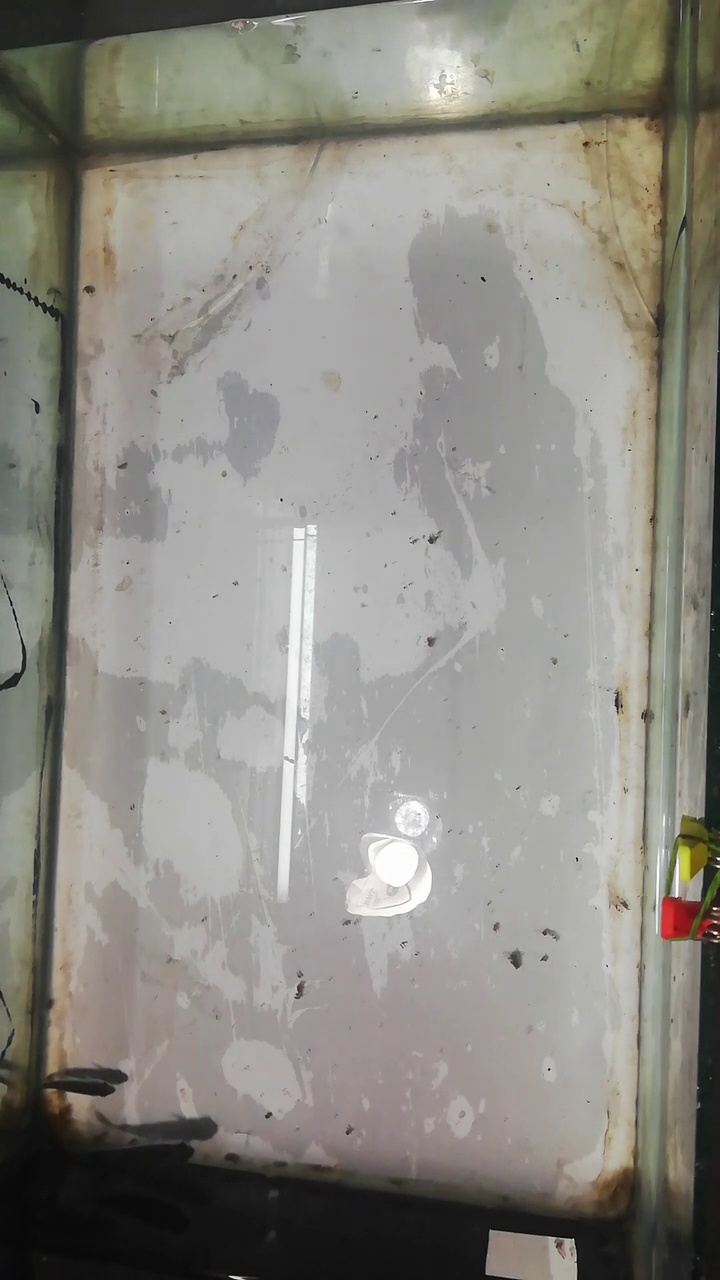fish1: (101, 1114, 218, 1140)
fish2: (40, 1075, 114, 1098)
